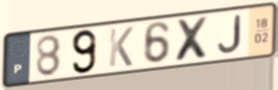6: (141, 20, 172, 66)
8: (34, 33, 63, 79)
9: (69, 28, 101, 75)
J: (216, 13, 244, 55)
K: (107, 25, 136, 69)
X: (173, 15, 212, 64)
